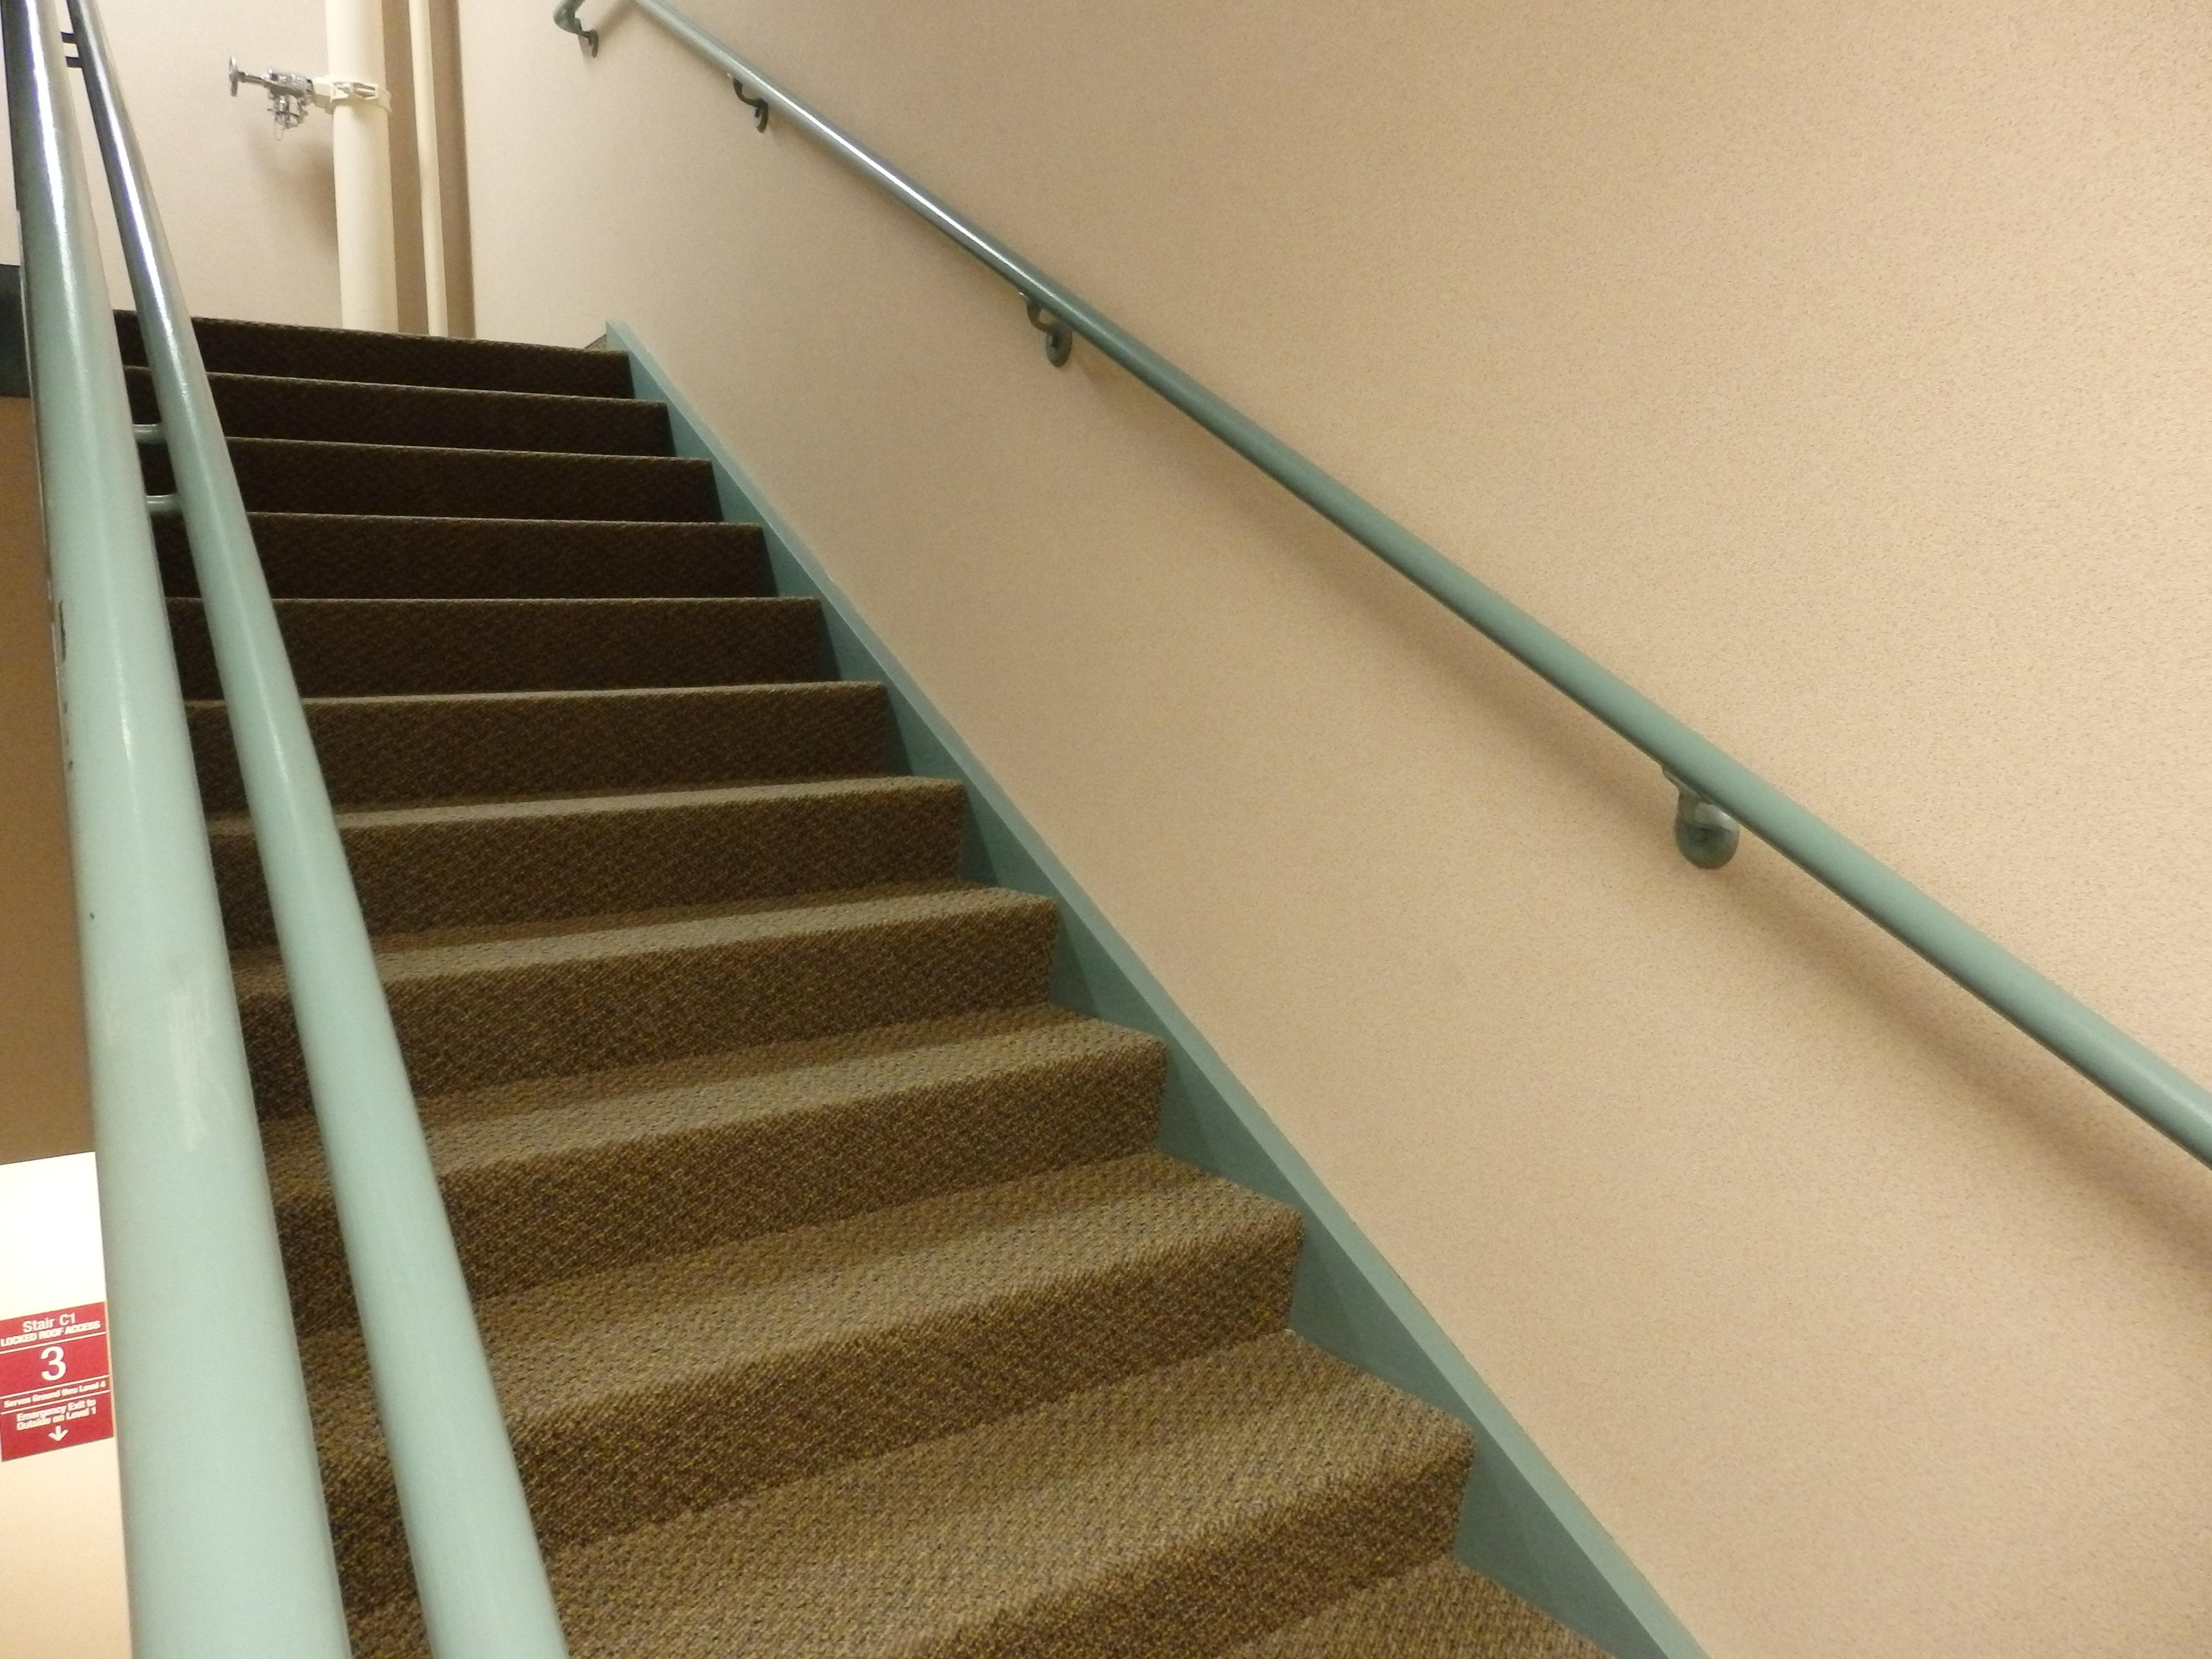stairs_up: (98, 261, 1284, 1621)
